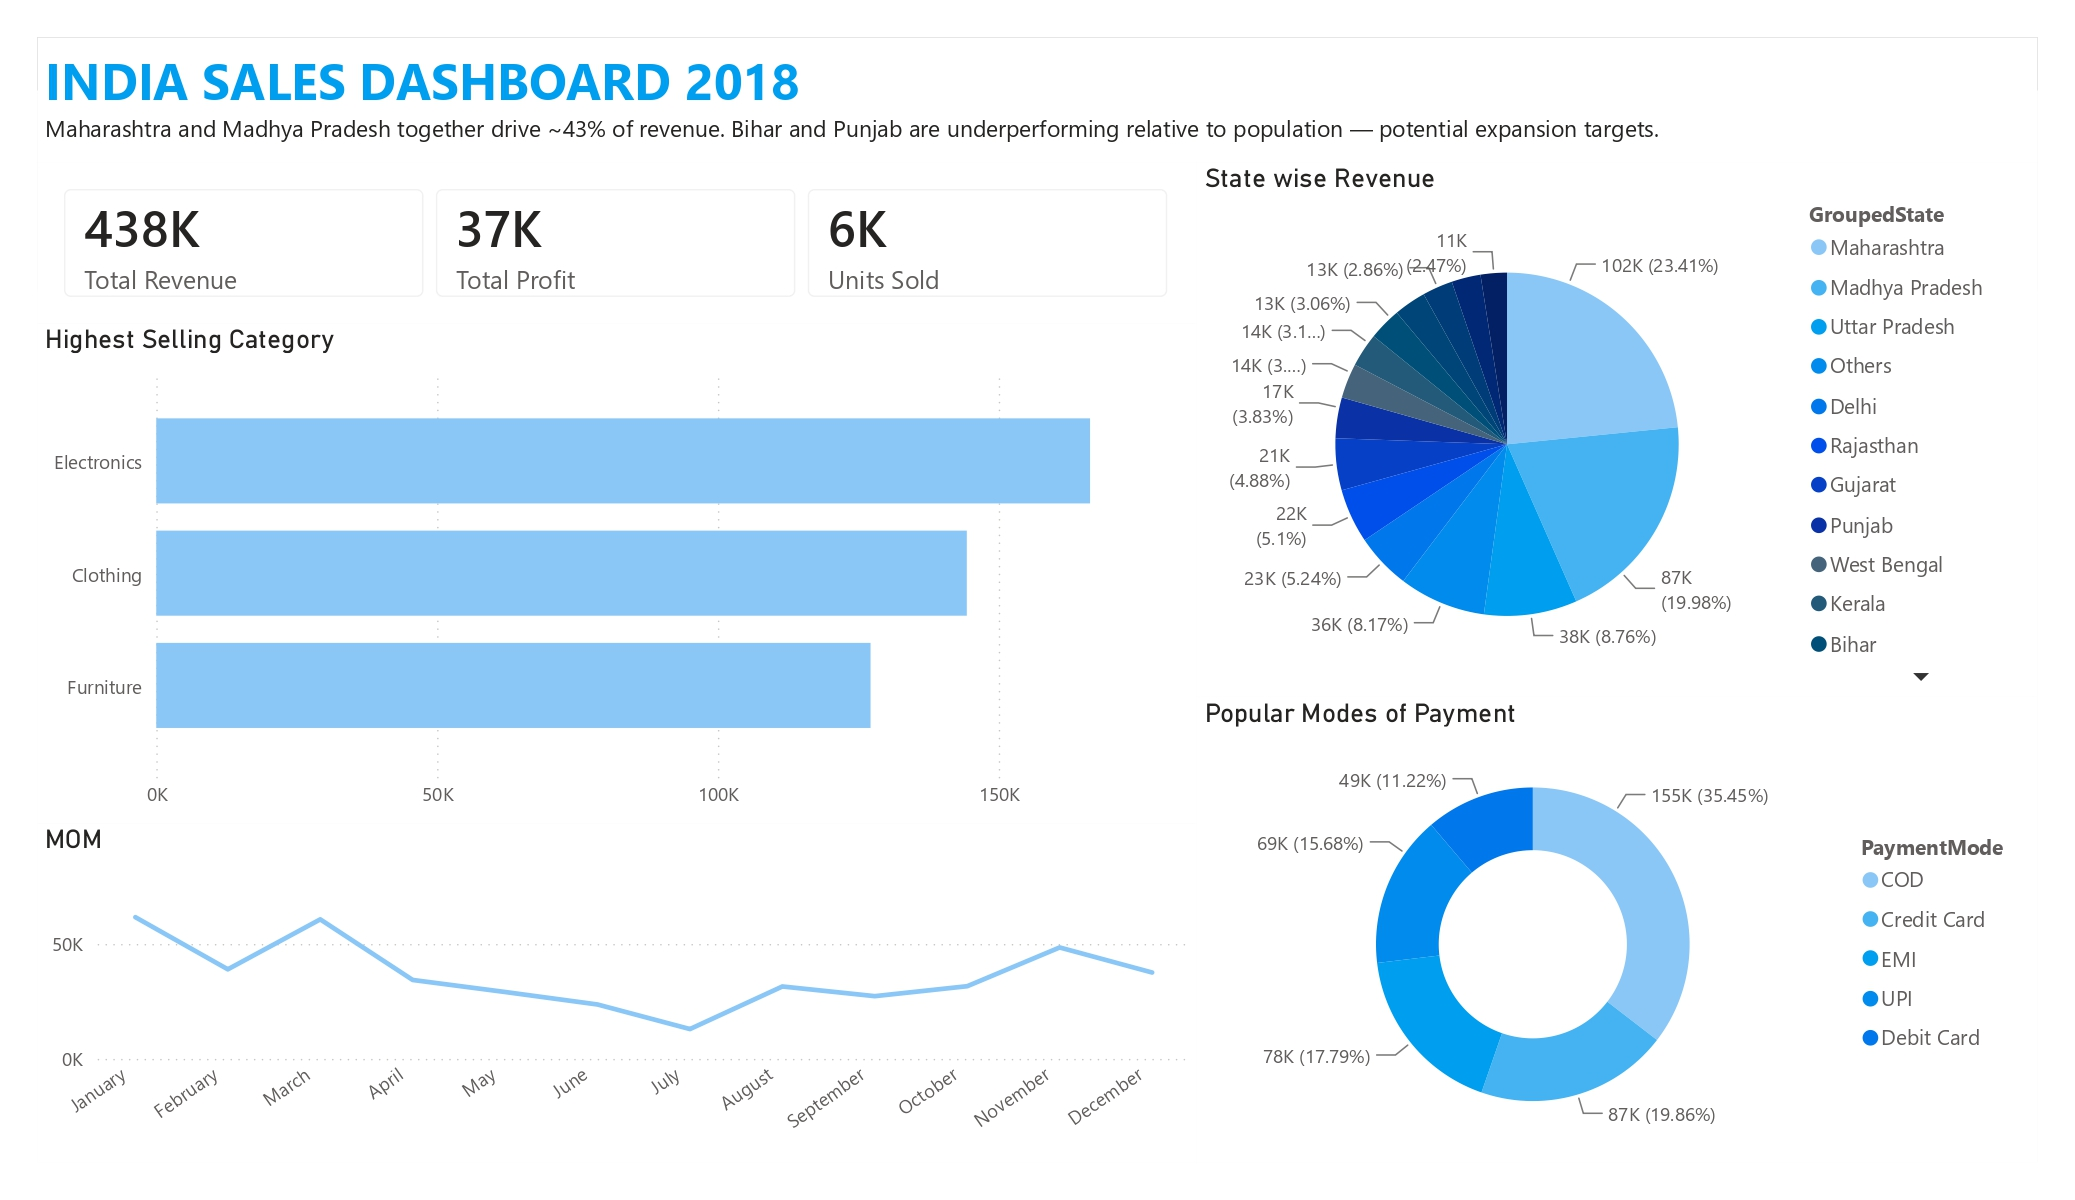

Layout of this report page (visuals, bound fields, positions):
{"tool":"powerbi","page":{"name":"Page 1","canvas":[1280,720],"ordinal":0},"visuals":[{"type":"cardVisual","fields":{"Data":["Sum(merged_df.Amount)","Sum(merged_df.Profit)","Sum(merged_df.Quantity)"]},"box":[0,80,741.7,103.3],"z":0},{"type":"clusteredBarChart","title":"Highest Selling Category ","fields":{"Y":["Sum(merged_df.Amount)"],"Category":["merged_df.Category"]},"box":[0,183.3,741.7,320],"z":1000},{"type":"lineChart","title":"MOM","fields":{"Category":["merged_df.Order Date.Variation.Date Hierarchy.Month"],"Y":["Sum(merged_df.Amount)"]},"box":[0,503.3,741.7,216.7],"z":2000},{"type":"actionButton","box":[0,0,100,40],"z":3000},{"type":"pieChart","title":"State wise Revenue","fields":{"Y":["Sum(merged_df.Amount)"],"Category":["merged_df.GroupedState"]},"box":[741.7,80,538.3,341.7],"z":4000},{"type":"donutChart","title":"Popular Modes of Payment","fields":{"Y":["Sum(merged_df.Amount)"],"Category":["merged_df.PaymentMode"]},"box":[741.7,421.7,538.3,298.3],"z":5000},{"type":"textbox","box":[0,0,1280,80],"z":5001}]}

Visuals, with their boxes on the page's 1280x720 design canvas (x1, y1, x2, y2). These are canvas units, not pixel positions in the 2075x1200 screenshot, which may show the page scaled, cropped or inside an application window:
cardVisual - Sum(merged_df.Amount) x Sum(merged_df.Profit): crop(0, 80, 742, 183)
"Highest Selling Category " clusteredBarChart: crop(0, 183, 742, 503)
"MOM" lineChart: crop(0, 503, 742, 720)
actionButton: crop(0, 0, 100, 40)
"State wise Revenue" pieChart: crop(742, 80, 1280, 422)
"Popular Modes of Payment" donutChart: crop(742, 422, 1280, 720)
textbox: crop(0, 0, 1280, 80)
